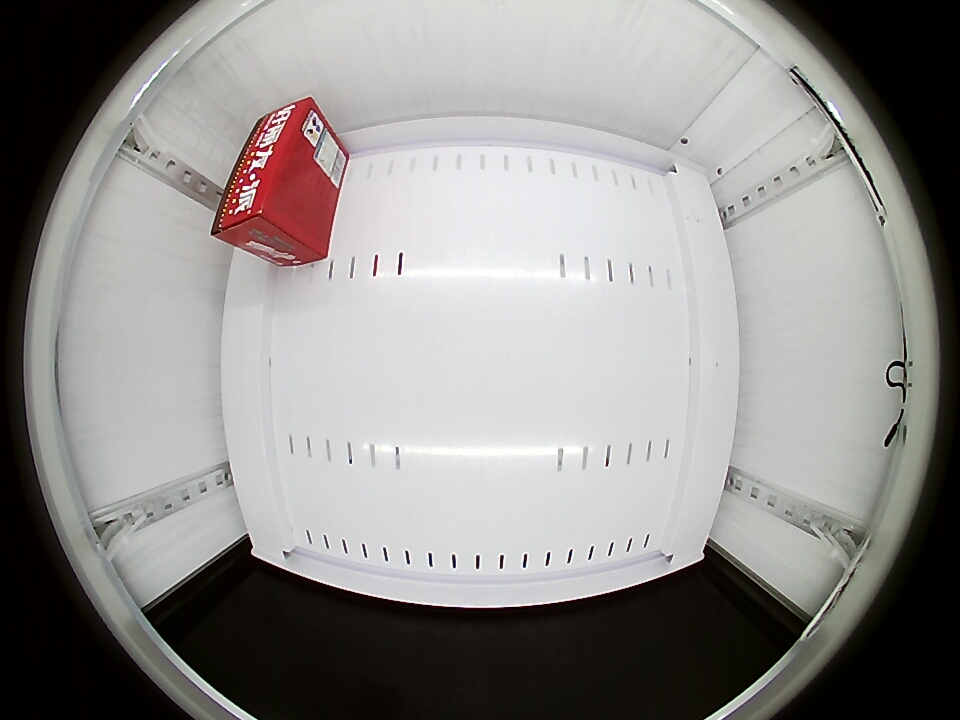haoliyou: (212, 96, 330, 254)
